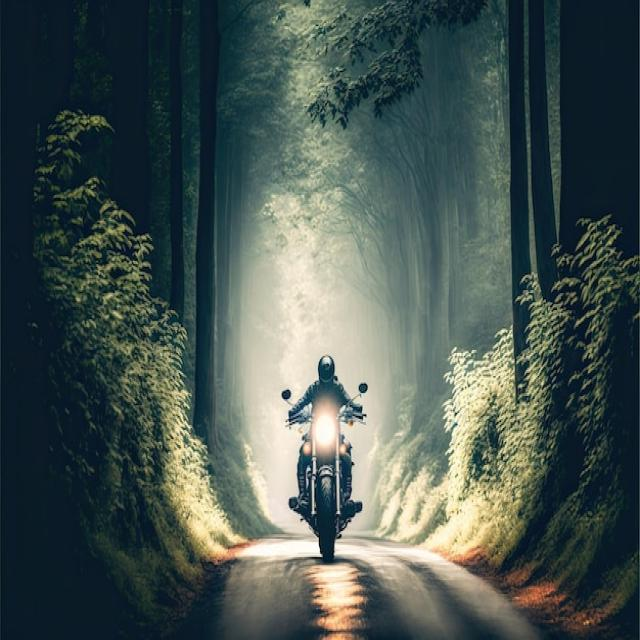Bike: (285, 402, 364, 558)
